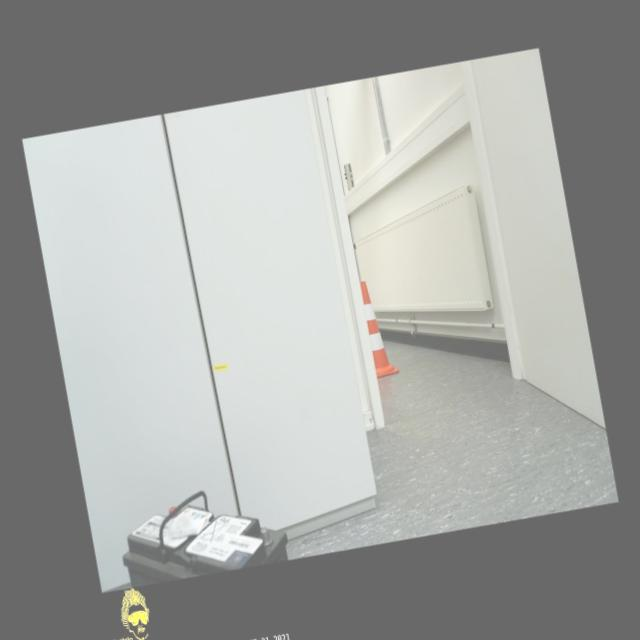large_orange_cone: (359, 278, 398, 377)
